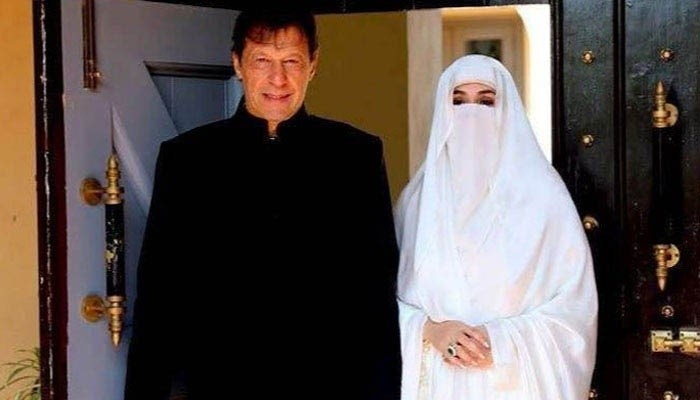face_no_mask: (232, 6, 321, 120)
